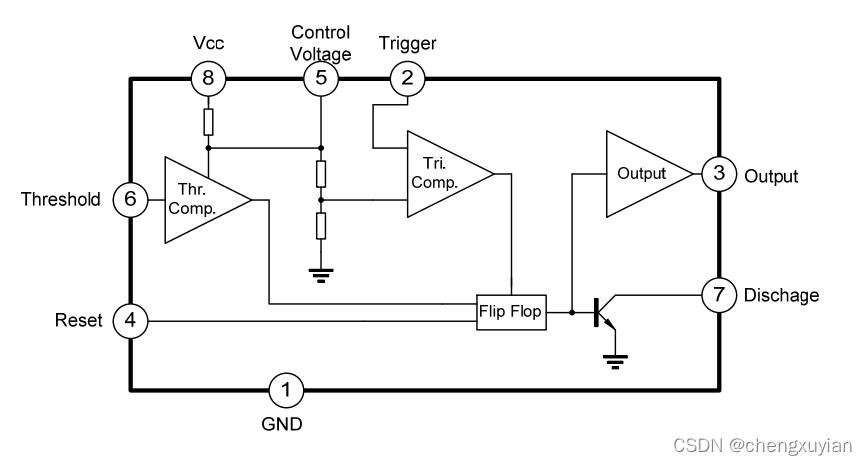bistable flip-flop: (477, 296, 547, 331)
comparator1: (406, 129, 495, 217), (165, 157, 252, 243)
discharge circuit: (591, 293, 621, 333)
output circuit: (606, 131, 694, 218)
reset circuit: (278, 317, 358, 326)
resistance: (202, 108, 214, 136), (315, 212, 326, 238), (316, 160, 325, 187)
